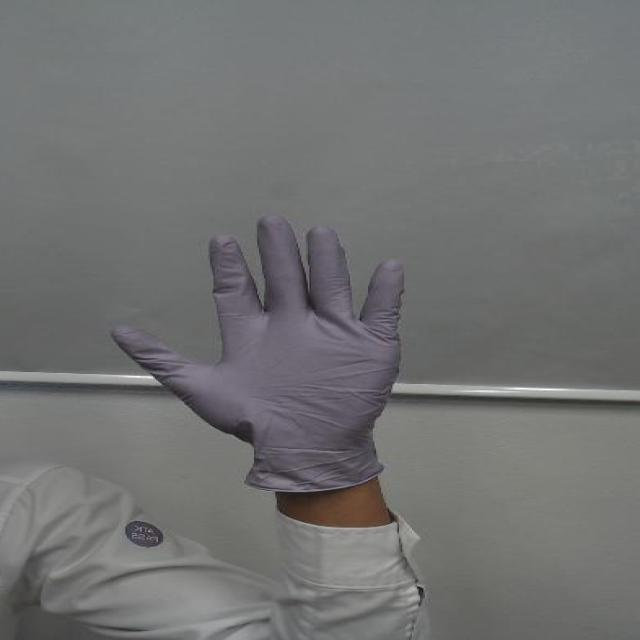glove: (81, 200, 443, 424)
